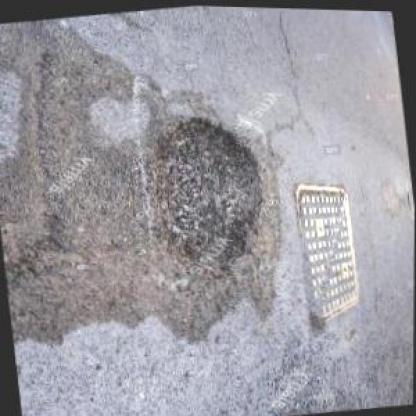pothole: (141, 106, 276, 288)
